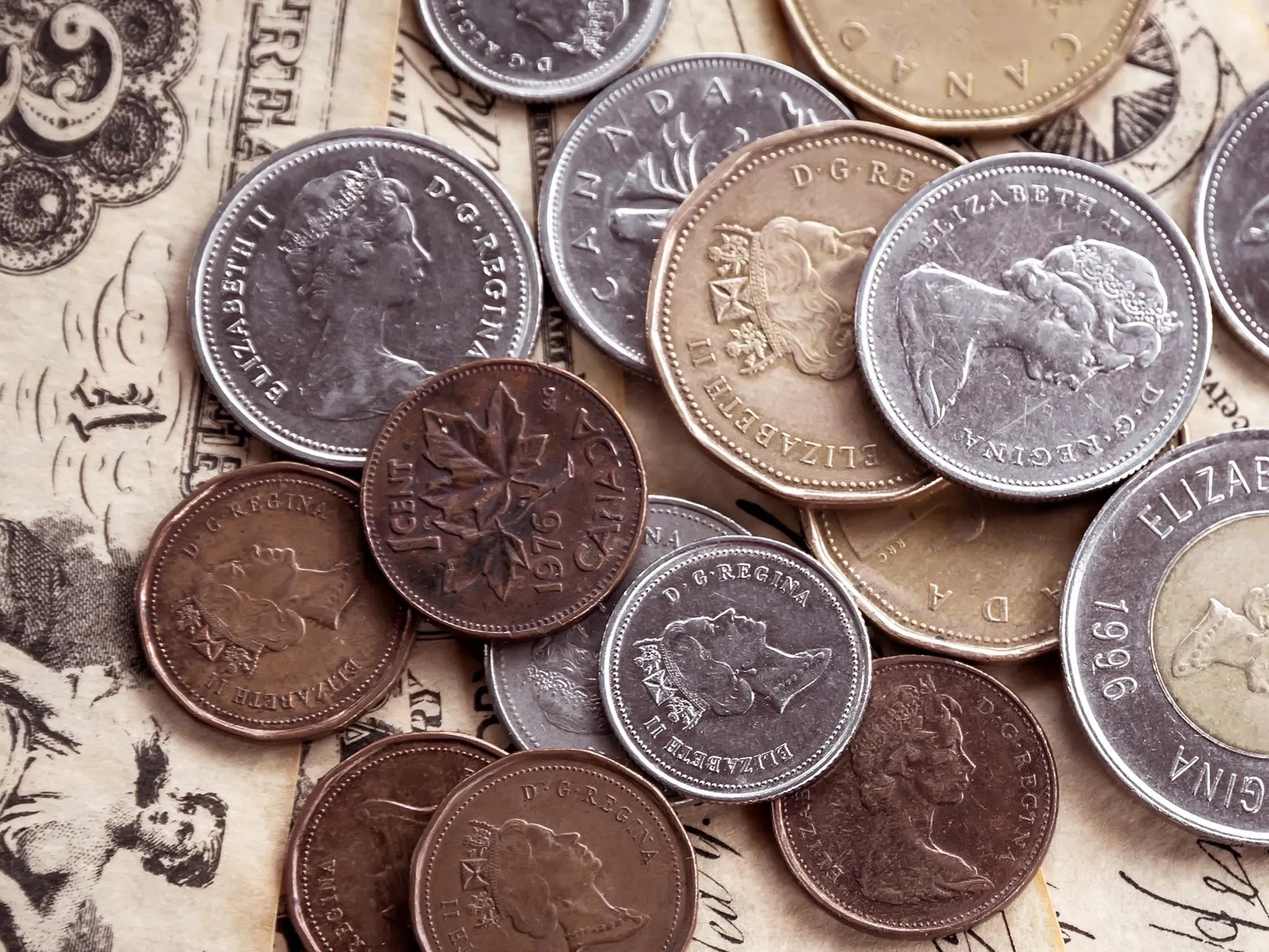coin: (856, 153, 1209, 499), (648, 122, 963, 505), (190, 128, 541, 466), (539, 54, 851, 374), (1062, 430, 1268, 843), (773, 656, 1057, 939), (362, 359, 646, 638), (136, 463, 412, 740), (601, 536, 869, 802), (485, 497, 747, 762), (411, 750, 696, 951), (803, 482, 1102, 661), (783, 0, 1149, 135), (285, 731, 503, 951), (415, 0, 670, 102), (1195, 84, 1268, 359)
